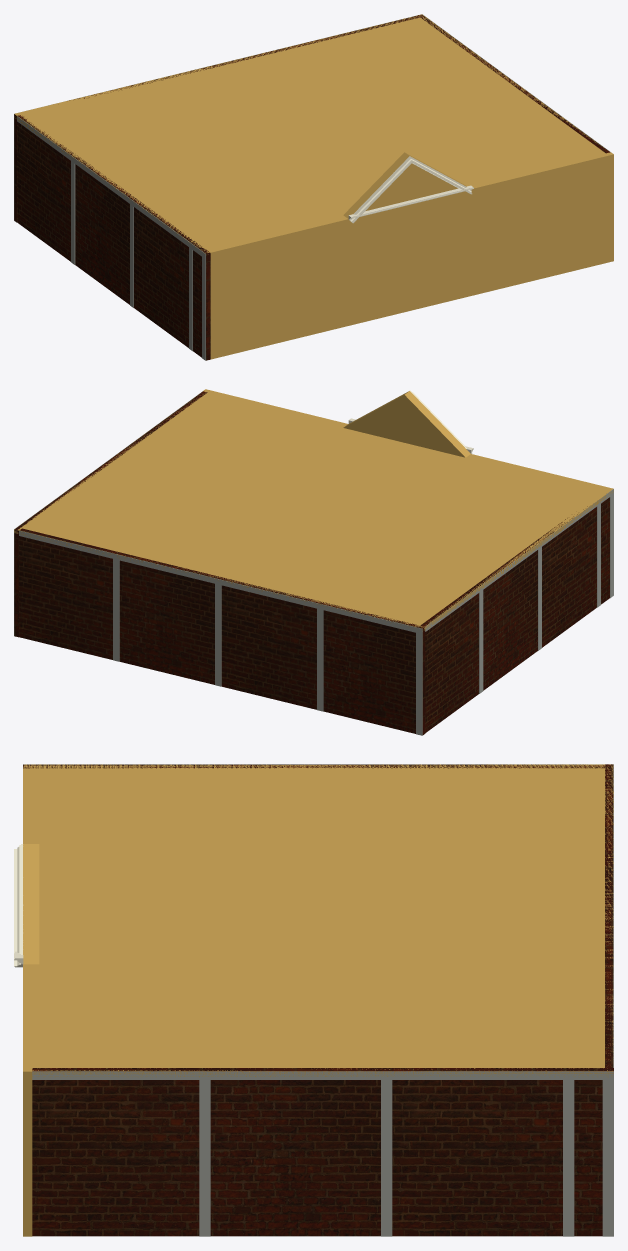
Rendered from building.glb.
3 views of the same model, one above another, from view 1: azimuth 30°, elevation 25°; view 2: azimuth 150°, elevation 25°; view 3: azimuth 270°, elevation 25° (orthographic). The views are drawn at different scales.
Parts seen in each view (by area): view 1: roof/house:0/roof_slab#0001, house:0/edge0/z0/house:0/edge0/z0/wall_0_0, house:0/edge3/z0/house:0/edge3/z0/wall_0_0, crown/coronamiento/crown_body#0001, house:0/edge2/z0/house:0/edge2/z0/wall_0_0, house:0/edge3/z0/house:0/edge3/z0/beam_0_0, house:0/edge1/z0/house:0/edge1/z0/wall_0_0, crown/coronamiento/crown_moulding#0001, crown/coronamiento/crown_base_cornice#0001, house:0/edge3/z0/house:0/edge3/z0/column_2_0; view 2: roof/house:0/roof_slab#0001, house:0/edge2/z0/house:0/edge2/z0/wall_0_0, house:0/edge3/z0/house:0/edge3/z0/wall_0_0, crown/coronamiento/crown_body#0001, house:0/edge2/z0/house:0/edge2/z0/beam_0_0, house:0/edge1/z0/house:0/edge1/z0/wall_0_0, house:0/edge3/z0/house:0/edge3/z0/beam_0_0, house:0/edge2/z0/house:0/edge2/z0/column_4_0, house:0/edge2/z0/house:0/edge2/z0/column_2_0, house:0/edge2/z0/house:0/edge2/z0/column_1_0, house:0/edge2/z0/house:0/edge2/z0/column_3_0, house:0/edge0/z0/house:0/edge0/z0/wall_0_0 (+1 smaller); view 3: roof/house:0/roof_slab#0001, house:0/edge1/z0/house:0/edge1/z0/wall_0_0, house:0/edge1/z0/house:0/edge1/z0/beam_0_0, house:0/edge0/z0/house:0/edge0/z0/wall_0_0, house:0/edge2/z0/house:0/edge2/z0/wall_0_0, house:0/edge3/z0/house:0/edge3/z0/wall_0_0, house:0/edge1/z0/house:0/edge1/z0/column_1_0, house:0/edge1/z0/house:0/edge1/z0/column_2_0, house:0/edge1/z0/house:0/edge1/z0/column_3_0, house:0/edge1/z0/house:0/edge1/z0/column_4_0, crown/coronamiento/crown_body#0001, crown/coronamiento/crown_moulding#0001.
Boxes of the visible parts, left/top/right/bottom form: roof/house:0/roof_slab#0001: left=14, top=14, right=613, bottom=254; house:0/edge0/z0/house:0/edge0/z0/wall_0_0: left=208, top=152, right=613, bottom=359; house:0/edge3/z0/house:0/edge3/z0/wall_0_0: left=17, top=115, right=210, bottom=360; crown/coronamiento/crown_body#0001: left=343, top=152, right=466, bottom=218; house:0/edge2/z0/house:0/edge2/z0/wall_0_0: left=14, top=15, right=419, bottom=222; house:0/edge3/z0/house:0/edge3/z0/beam_0_0: left=17, top=116, right=205, bottom=259; house:0/edge1/z0/house:0/edge1/z0/wall_0_0: left=418, top=14, right=609, bottom=153; crown/coronamiento/crown_moulding#0001: left=349, top=156, right=472, bottom=223; crown/coronamiento/crown_base_cornice#0001: left=348, top=185, right=473, bottom=219; house:0/edge3/z0/house:0/edge3/z0/column_2_0: left=71, top=161, right=75, bottom=264; roof/house:0/roof_slab#0001: left=14, top=389, right=613, bottom=630; house:0/edge2/z0/house:0/edge2/z0/wall_0_0: left=19, top=528, right=425, bottom=735; house:0/edge3/z0/house:0/edge3/z0/wall_0_0: left=420, top=497, right=609, bottom=732; crown/coronamiento/crown_body#0001: left=343, top=391, right=469, bottom=457; house:0/edge2/z0/house:0/edge2/z0/beam_0_0: left=19, top=530, right=422, bottom=634; house:0/edge1/z0/house:0/edge1/z0/wall_0_0: left=14, top=391, right=207, bottom=637; house:0/edge3/z0/house:0/edge3/z0/beam_0_0: left=425, top=489, right=613, bottom=631; house:0/edge2/z0/house:0/edge2/z0/column_4_0: left=317, top=608, right=323, bottom=711; house:0/edge2/z0/house:0/edge2/z0/column_2_0: left=113, top=559, right=119, bottom=661; house:0/edge2/z0/house:0/edge2/z0/column_1_0: left=416, top=633, right=422, bottom=735; house:0/edge2/z0/house:0/edge2/z0/column_3_0: left=215, top=584, right=221, bottom=686; house:0/edge0/z0/house:0/edge0/z0/wall_0_0: left=203, top=389, right=539, bottom=471; roof/house:0/roof_slab#0001: left=23, top=764, right=613, bottom=1077; house:0/edge1/z0/house:0/edge1/z0/wall_0_0: left=32, top=1068, right=613, bottom=1236; house:0/edge1/z0/house:0/edge1/z0/beam_0_0: left=32, top=1071, right=613, bottom=1079; house:0/edge0/z0/house:0/edge0/z0/wall_0_0: left=23, top=768, right=32, bottom=1236; house:0/edge2/z0/house:0/edge2/z0/wall_0_0: left=605, top=764, right=613, bottom=1067; house:0/edge3/z0/house:0/edge3/z0/wall_0_0: left=23, top=764, right=604, bottom=768; house:0/edge1/z0/house:0/edge1/z0/column_1_0: left=602, top=1080, right=613, bottom=1236; house:0/edge1/z0/house:0/edge1/z0/column_2_0: left=199, top=1080, right=210, bottom=1236; house:0/edge1/z0/house:0/edge1/z0/column_3_0: left=381, top=1080, right=392, bottom=1236; house:0/edge1/z0/house:0/edge1/z0/column_4_0: left=563, top=1080, right=574, bottom=1236; crown/coronamiento/crown_body#0001: left=25, top=844, right=39, bottom=964; crown/coronamiento/crown_moulding#0001: left=14, top=844, right=23, bottom=967.
Bounding box in the file's own units: 16 × 5.8 × 13.2.
Materials: 4 (1 with a texture image).
